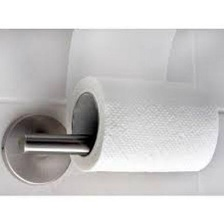tissue: (59, 29, 224, 179)
